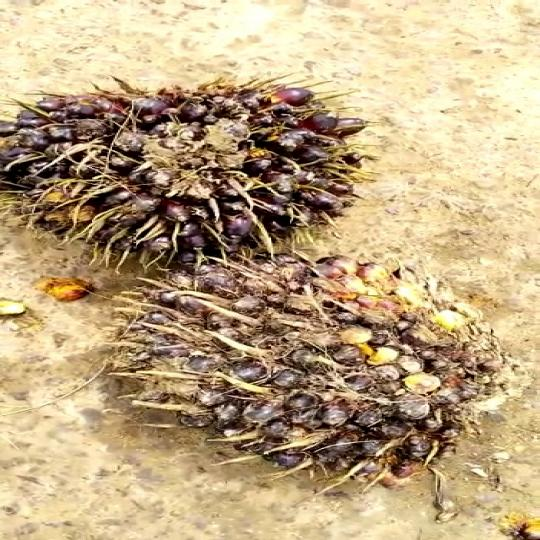mentah: (113, 255, 507, 486), (0, 69, 405, 254)
